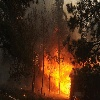fire: (42, 42, 71, 94)
